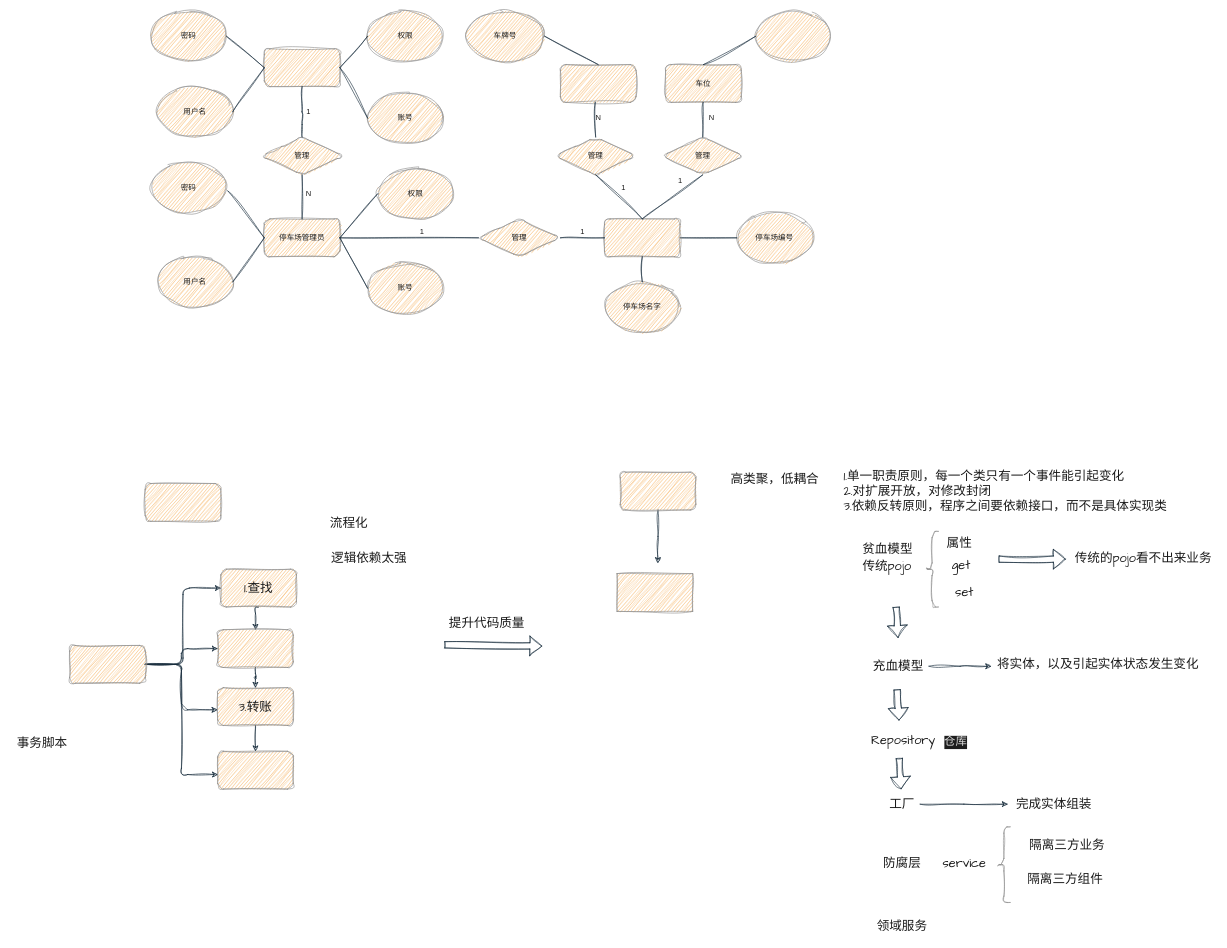
Some shapes in this 1227 by 948 pixel diagram are drawn without their labels. Here are the shapes that lost their labels. From the top down, the centre of each, then its label:
At [793,35]: "车位编号".
At [302,67]: "管理员".
At [598,83]: "车辆".
At [642,237]: "停车场".
At [183,502]: "MVC".
At [658,491]: "DDD".
At [654,592]: "1.对实体进行改造".
At [107,664]: "支付".
At [255,648]: "2.风控".
At [255,770]: "4.审计".
